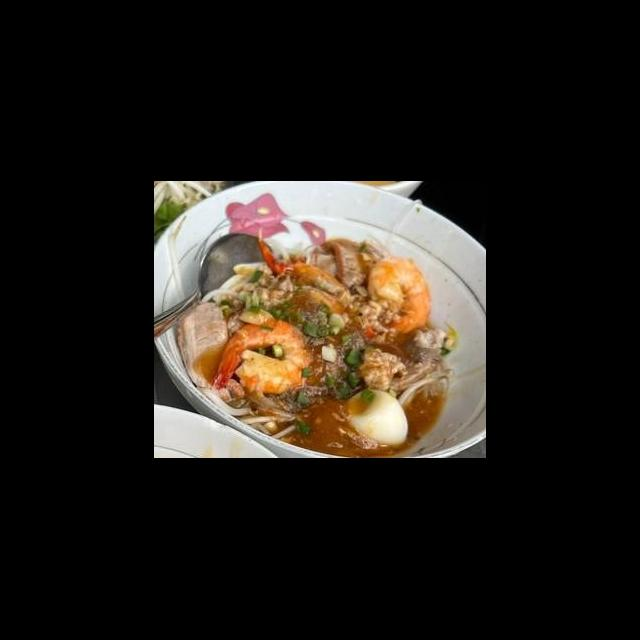thit heo: (174, 296, 245, 408)
tom: (205, 316, 318, 396), (356, 252, 435, 344)
trung: (340, 384, 412, 450)
